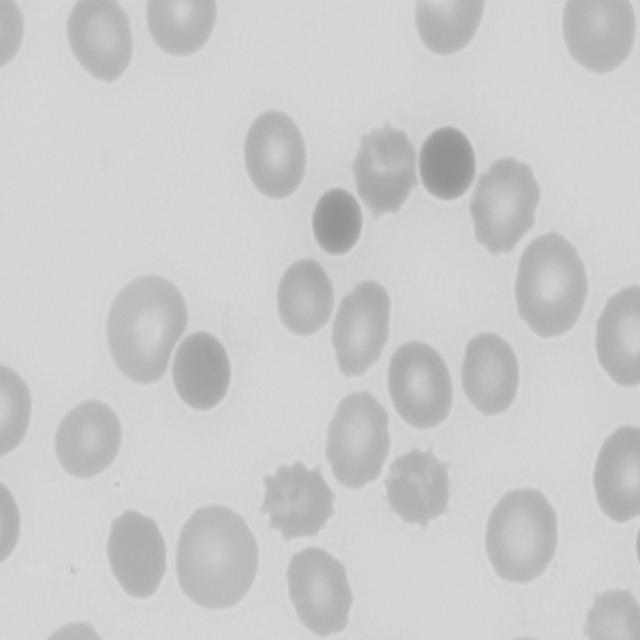RBC: (105, 272, 189, 387), (174, 507, 264, 614), (511, 230, 591, 340), (483, 484, 563, 584), (321, 382, 394, 490), (468, 157, 542, 260), (329, 278, 394, 383), (286, 544, 357, 640), (242, 108, 311, 206), (557, 0, 640, 79), (386, 338, 456, 431), (103, 509, 171, 603), (66, 0, 138, 86), (52, 396, 122, 482), (383, 445, 452, 532), (352, 128, 421, 212), (458, 332, 523, 420), (589, 423, 640, 528), (593, 281, 640, 394), (275, 258, 335, 340), (411, 0, 488, 62), (141, 0, 220, 60), (0, 357, 35, 459), (582, 583, 640, 640), (0, 468, 23, 576), (0, 0, 25, 74)
Spherocyte: (172, 332, 236, 414), (418, 128, 481, 207), (308, 186, 366, 257)
